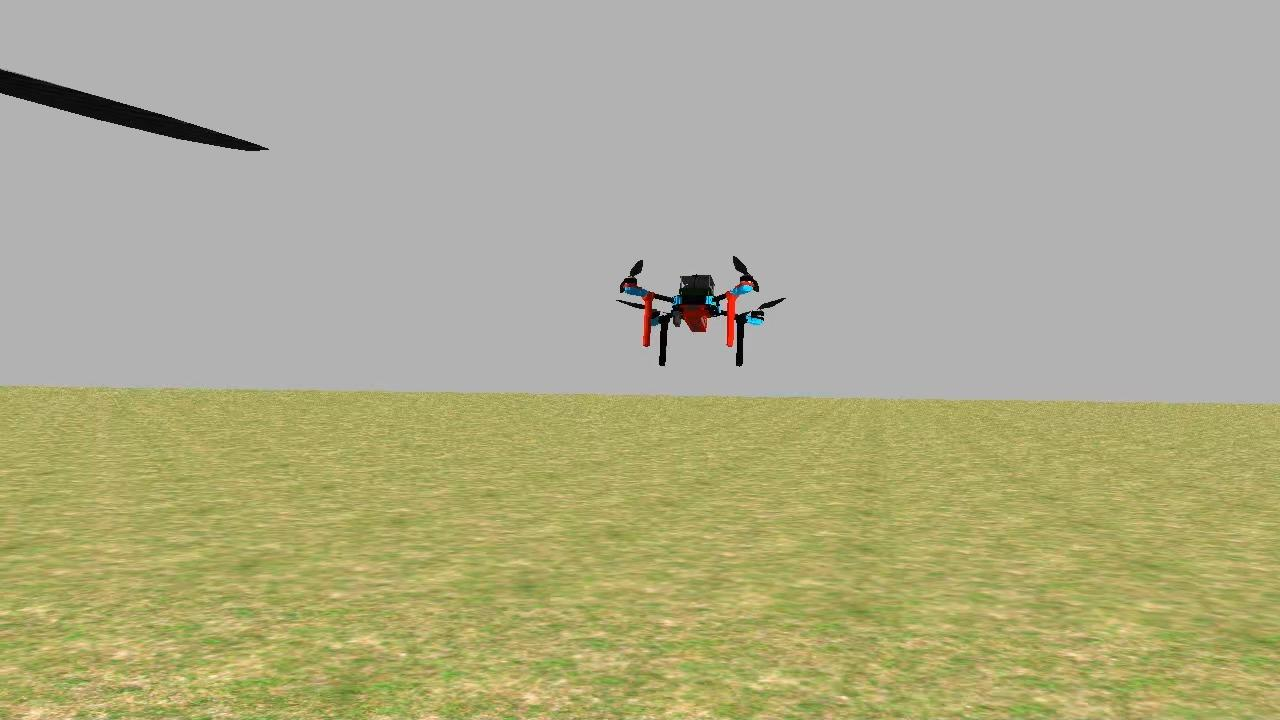UAV: (611, 256, 778, 378)
